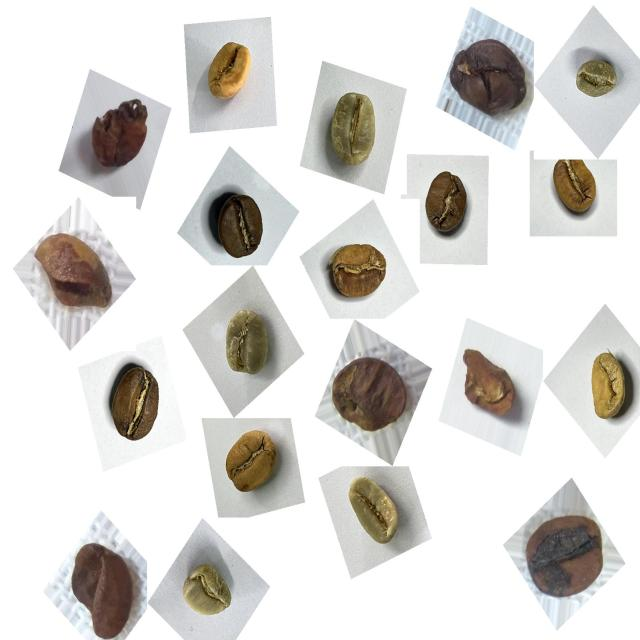bad: (516, 500, 613, 610), (447, 23, 540, 129), (60, 531, 150, 638), (322, 340, 413, 442), (35, 221, 118, 318), (83, 86, 159, 184), (453, 338, 525, 426)
green: (335, 470, 409, 557), (320, 83, 386, 172), (215, 300, 279, 387), (172, 553, 242, 632), (569, 47, 626, 112)
light: (318, 230, 397, 316), (214, 423, 290, 509), (579, 335, 640, 430), (195, 31, 262, 116), (541, 151, 608, 225)
medium: (100, 358, 176, 450), (204, 185, 276, 268), (415, 164, 479, 246)
